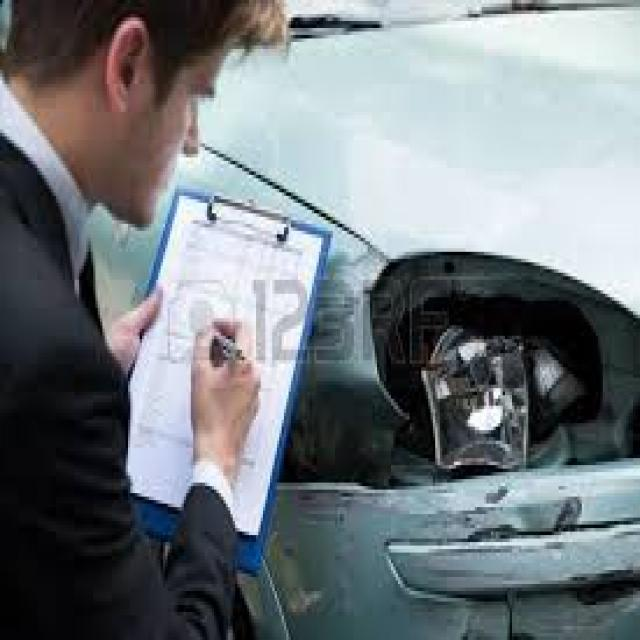minor: (340, 207, 616, 498)
